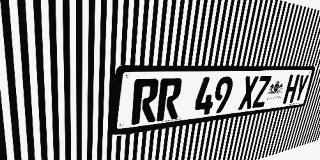4: (193, 77, 217, 116)
9: (212, 76, 234, 114)
H: (282, 75, 300, 104)
R: (131, 79, 160, 125), (156, 78, 183, 121)
X: (238, 76, 259, 110)
Y: (293, 74, 310, 102)
Z: (252, 75, 272, 108)
